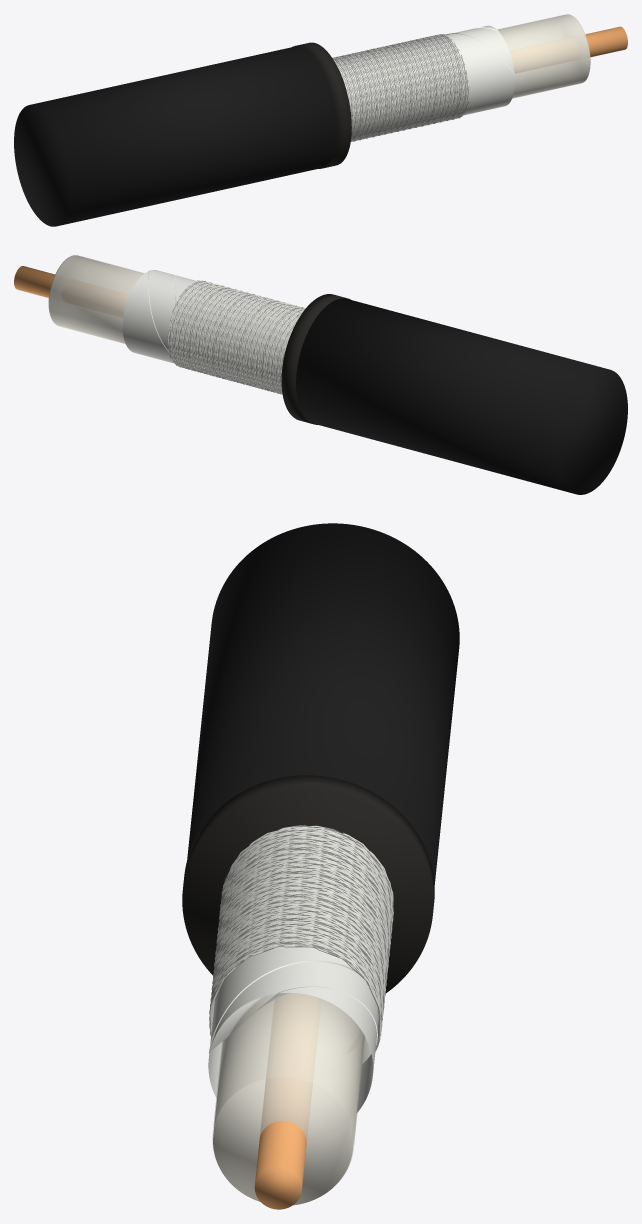
File: rf-lmr195.glb
The picture shows the model from 3 angles, top to bottom: view 1: azimuth 30°, elevation 25°; view 2: azimuth 150°, elevation 25°; view 3: azimuth 270°, elevation 25°; orthographic projection. The views are drawn at different scales.
Visible parts, largest first — view 1: matte black pvc jacket body, duobond foil sleeve, gas injected foam dielectric, smooth dielectric skin, jacket cut lip, solid center conductor continuous, braid left hand carrier 02, braid left hand carrier 14, braid left hand carrier 15, braid left hand carrier 11, braid left hand carrier 12, braid left hand carrier 03 (+26 smaller); view 2: matte black pvc jacket body, duobond foil sleeve, gas injected foam dielectric, smooth dielectric skin, jacket cut lip, solid center conductor continuous, braid left hand carrier 11, braid left hand carrier 12, braid left hand carrier 14, braid left hand carrier 08, braid left hand carrier 09, braid left hand carrier 06 (+26 smaller); view 3: matte black pvc jacket body, gas injected foam dielectric, jacket cut lip, smooth dielectric skin, duobond foil sleeve, solid center conductor continuous, braid left hand carrier 15, braid left hand carrier 03, braid left hand carrier 06, braid left hand carrier 12, braid left hand carrier 09, braid left hand carrier 02 (+17 smaller).
Boxes of the visible parts, box(x1,y1,x2,y2) form: matte black pvc jacket body: box(14, 46, 337, 226); duobond foil sleeve: box(336, 25, 514, 139); gas injected foam dielectric: box(498, 14, 590, 97); smooth dielectric skin: box(497, 14, 589, 98); jacket cut lip: box(292, 42, 351, 168); solid center conductor continuous: box(585, 26, 627, 57); braid left hand carrier 02: box(342, 35, 463, 141); braid left hand carrier 14: box(336, 35, 457, 138); braid left hand carrier 15: box(339, 34, 458, 138); braid left hand carrier 11: box(333, 36, 452, 138); braid left hand carrier 12: box(334, 35, 453, 138); braid left hand carrier 03: box(345, 38, 464, 141); matte black pvc jacket body: box(296, 298, 627, 494); duobond foil sleeve: box(122, 270, 301, 387); gas injected foam dielectric: box(48, 255, 143, 343); smooth dielectric skin: box(49, 255, 144, 343); jacket cut lip: box(281, 294, 350, 424); solid center conductor continuous: box(14, 266, 54, 297); braid left hand carrier 11: box(172, 283, 303, 393); braid left hand carrier 12: box(170, 283, 303, 392); braid left hand carrier 14: box(167, 282, 303, 392); braid left hand carrier 08: box(176, 284, 298, 394); braid left hand carrier 09: box(175, 284, 300, 393); braid left hand carrier 06: box(179, 285, 296, 392); matte black pvc jacket body: box(187, 523, 459, 884); gas injected foam dielectric: box(213, 993, 364, 1205); jacket cut lip: box(182, 775, 434, 993); smooth dielectric skin: box(212, 993, 365, 1185); duobond foil sleeve: box(208, 829, 378, 1112); solid center conductor continuous: box(254, 1077, 312, 1209); braid left hand carrier 15: box(212, 832, 393, 1017); braid left hand carrier 03: box(209, 828, 393, 1022); braid left hand carrier 06: box(209, 832, 392, 1035); braid left hand carrier 12: box(213, 841, 392, 1047); braid left hand carrier 09: box(212, 836, 392, 1015); braid left hand carrier 02: box(210, 826, 392, 1018).
Size of the model in its own units: 6.53 by 1.25 by 1.38.
